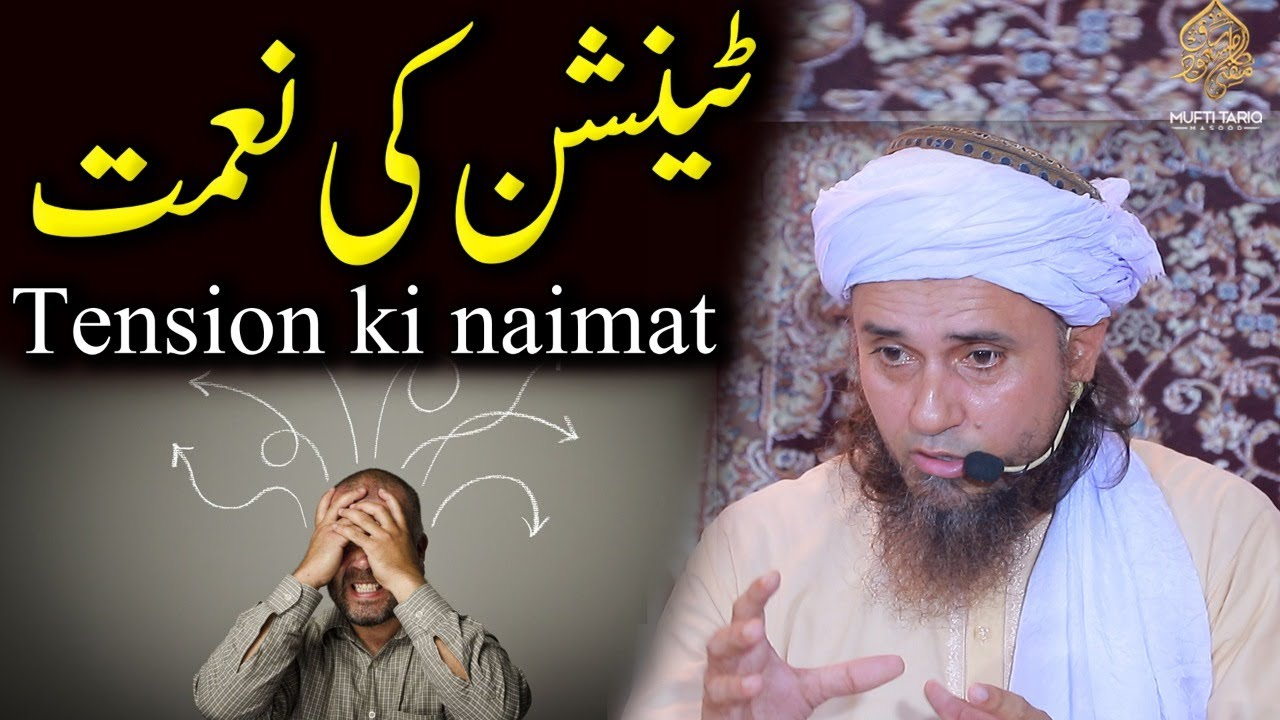NoMask: (860, 312, 1031, 519)
